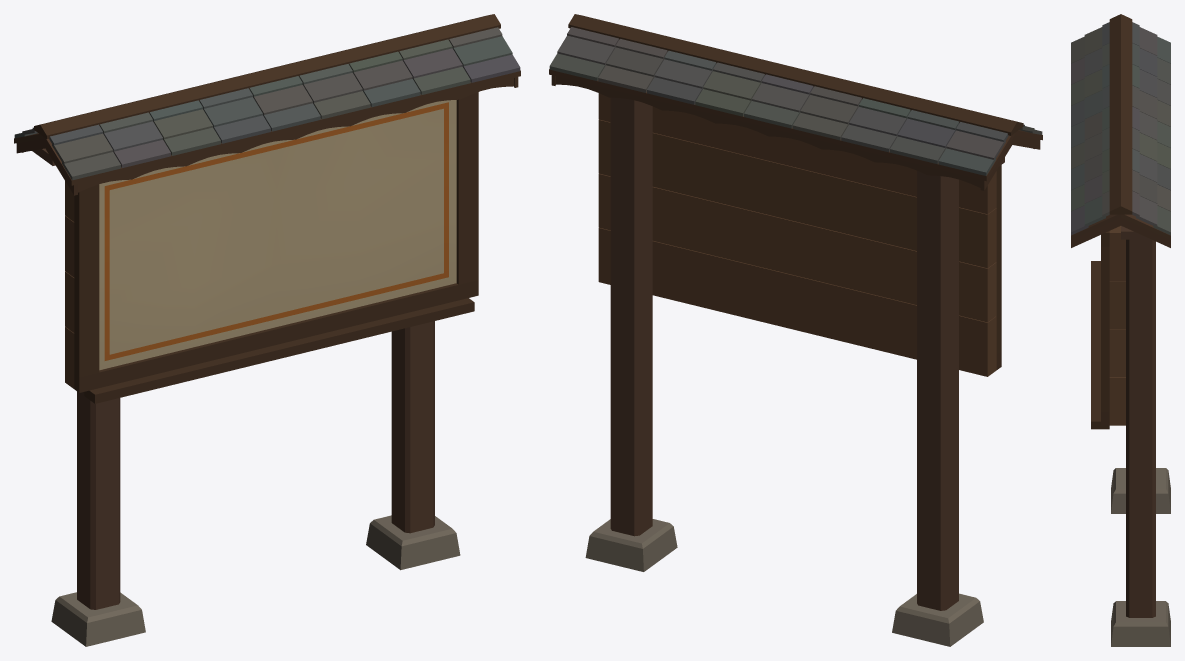
File: today-board.glb
The picture shows the model from 3 angles, left to right: view 1: azimuth 30°, elevation 25°; view 2: azimuth 150°, elevation 25°; view 3: azimuth 270°, elevation 25°; orthographic projection. The views are drawn at different scales.
Visible parts, largest first — view 1: today-board; view 2: today-board; view 3: today-board.
Boxes of the visible parts, x1=… form: today-board: x1=14, y1=14, x2=520, y2=646; today-board: x1=549, y1=14, x2=1042, y2=646; today-board: x1=1071, y1=14, x2=1170, y2=646.
Bounding box in the file's own units: 1.82 × 2.02 × 0.4.
